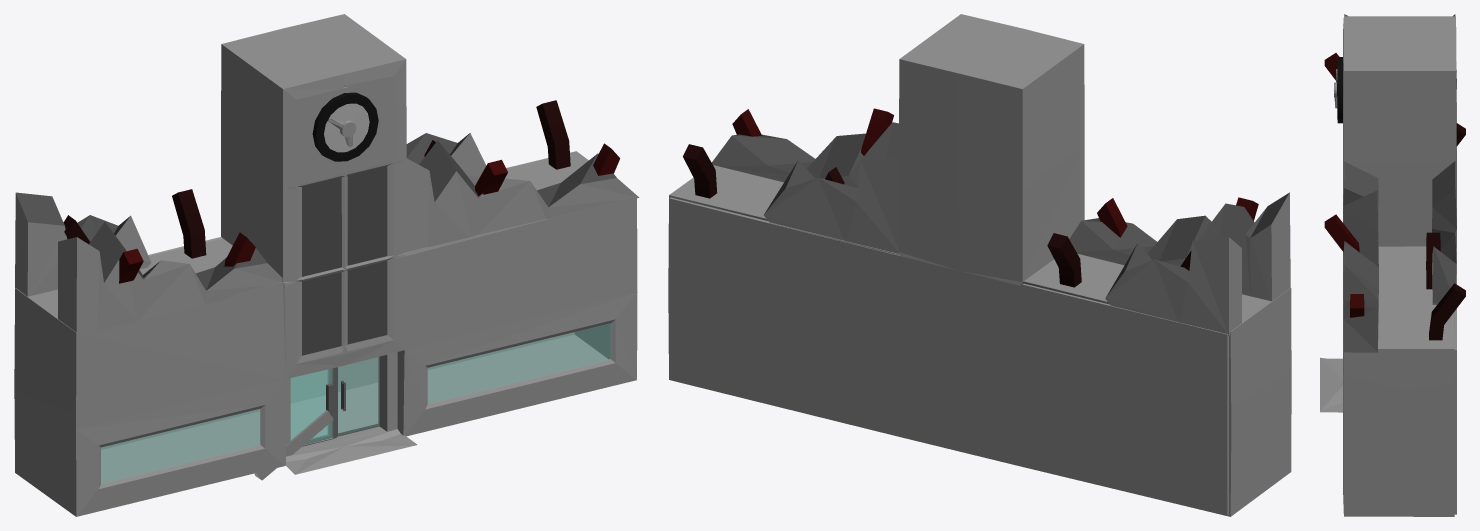
The model's file is school@out_close.FBX.
3 renders of one model, left to right at view 1: azimuth 30°, elevation 25°; view 2: azimuth 150°, elevation 25°; view 3: azimuth 270°, elevation 25°, orthographic. The views are drawn at different scales.
Visible parts, largest first — view 1: Box001, Object003, Object004; view 2: Object004, Box001; view 3: Box001, Object004.
Boxes of the visible parts, x1,y1,x2,y2 form: Box001: (14,14,639,516); Object003: (337,356,379,436); Object004: (101,332,574,449); Object004: (669,197,1228,515); Box001: (668,14,1291,516); Box001: (1320,14,1465,516); Object004: (1454,102,1456,514).
Bounding box in the file's own units: 114 × 76.04 × 28.11.
